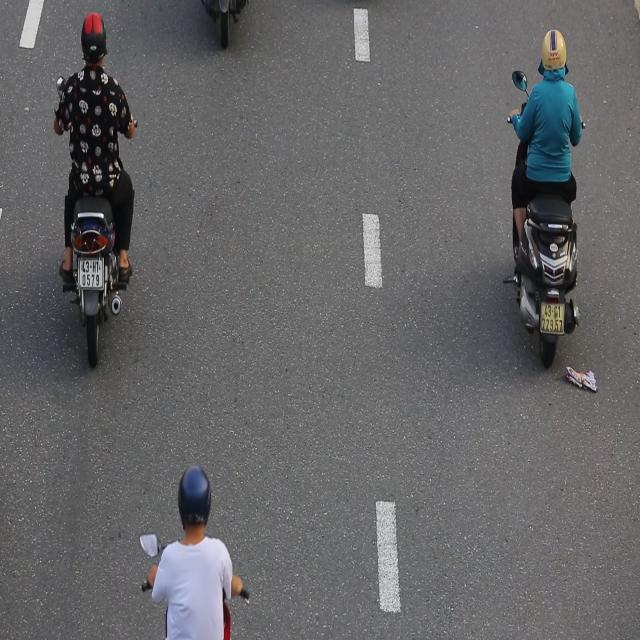motorbike: (50, 0, 139, 380), (503, 7, 588, 394)
